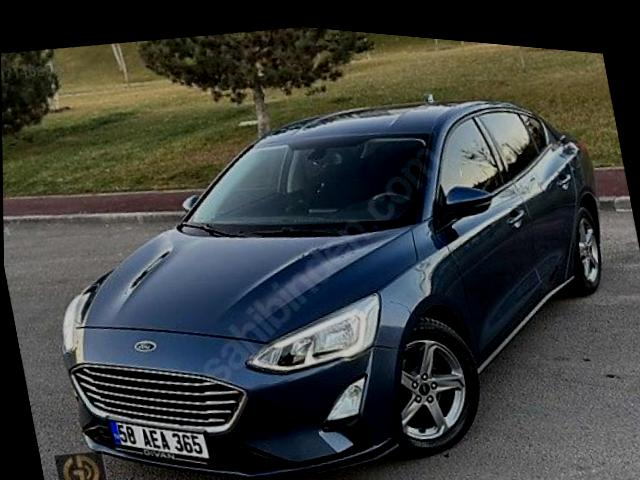plaka: (113, 422, 207, 458)
